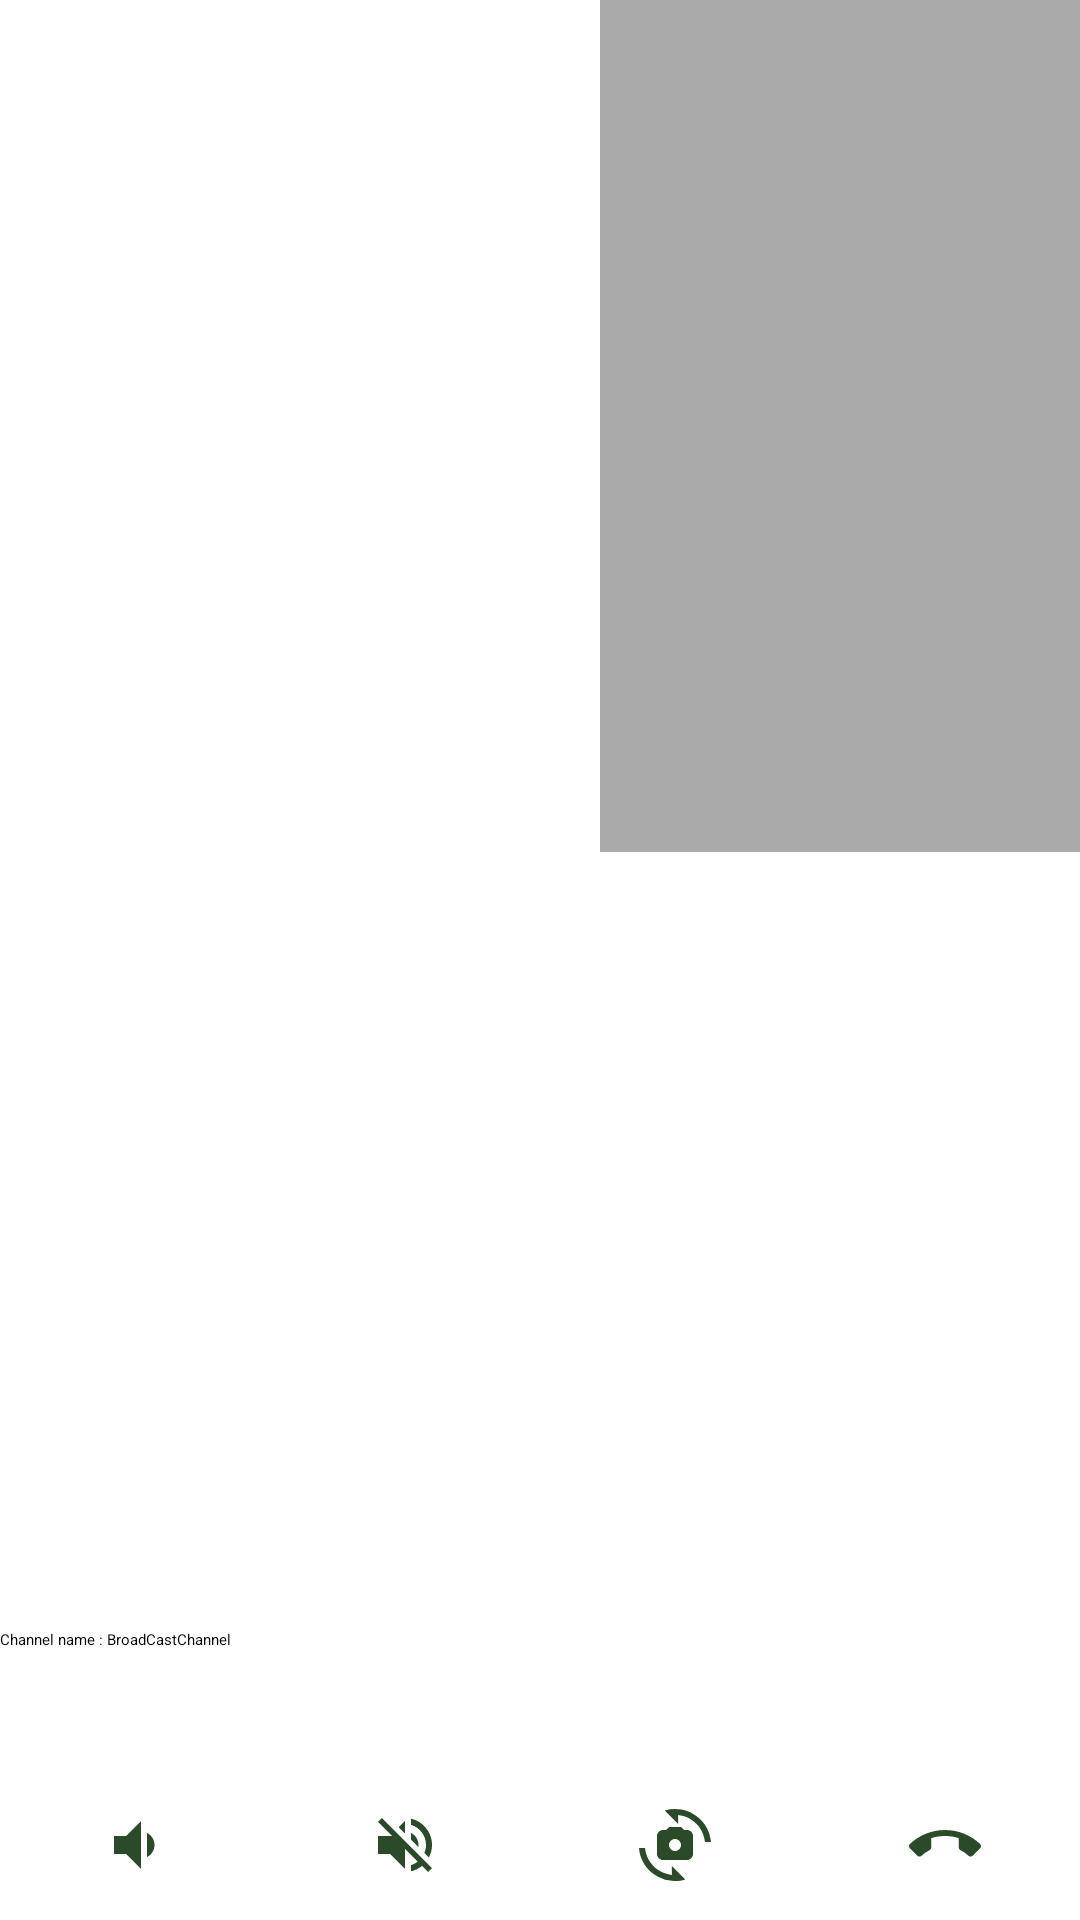

Named icons in this screenshot (1080*1920) and their bounding boxes, (x1, y1, x2, y2):
call end: (909, 1830, 981, 1857)
cameraswitch: (639, 1809, 711, 1881)
voice: (114, 1821, 155, 1869)
volume off: (378, 1818, 432, 1872)
